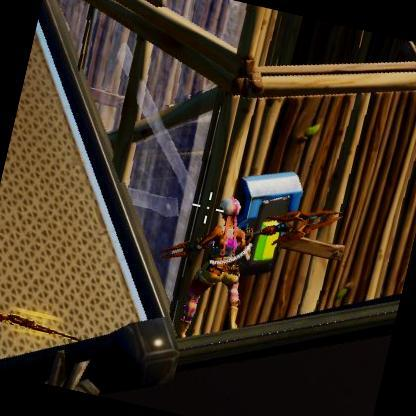person: (183, 194, 264, 332)
